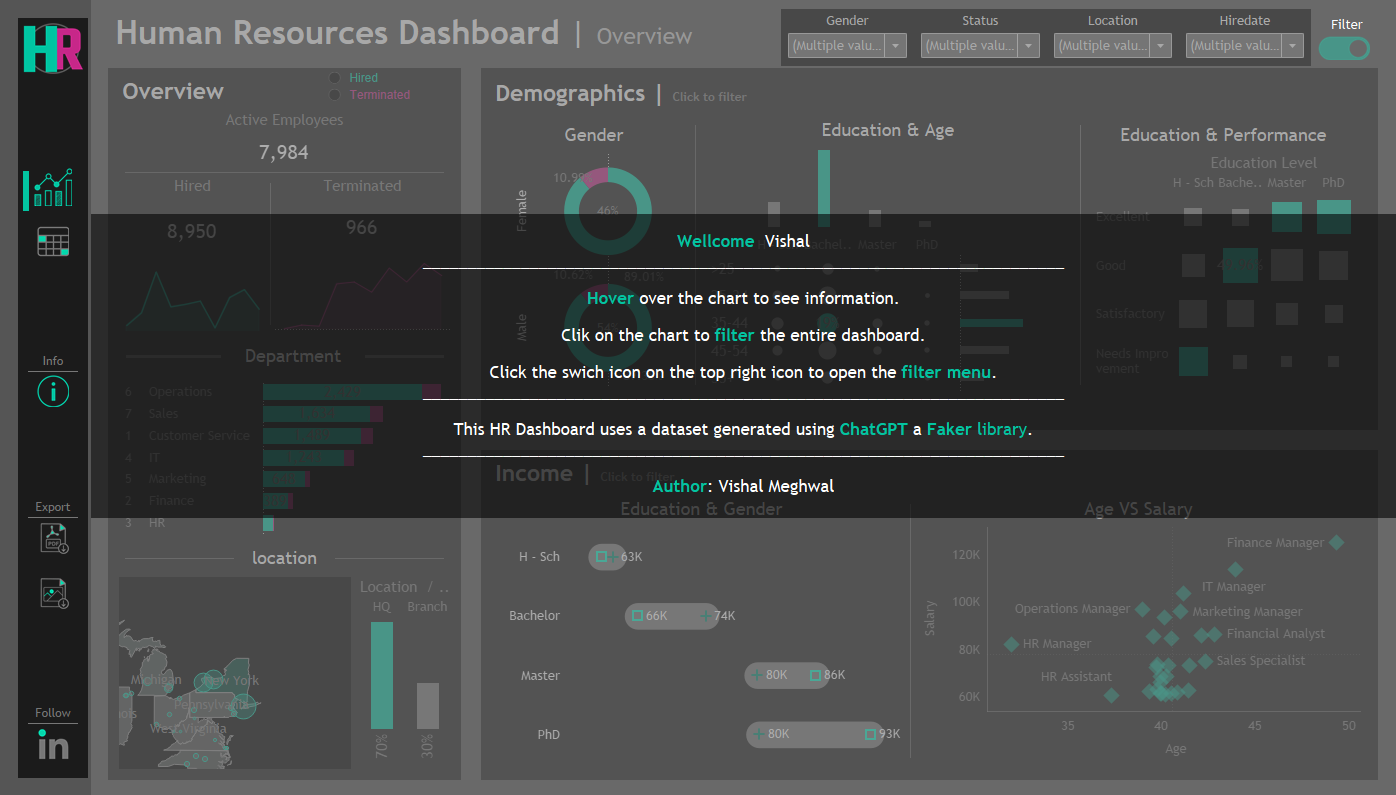

What the dashboard file says about the page in this screenshot:
{"tool":"tableau","page":{"name":"HR | Dash Board ","canvas":[1400,800],"ordinal":0},"visuals":[{"type":"blank","box":[93,0,1305,216]},{"type":"text","box":[110,0,683,70]},{"type":"blank","box":[793,0,587,70]},{"type":"filter","title":"Gander vs Education","param":"[federated.0bgmnje15hprr71agptte040bgvo].[none:Gender:nk]","box":[783,11,133,57]},{"type":"filter","title":"Gander vs Education","param":"[federated.0bgmnje15hprr71agptte040bgvo].[none:Calculation_571957185363922944:nk","box":[916,11,133,57]},{"type":"filter","title":"Gander vs Education","param":"[federated.0bgmnje15hprr71agptte040bgvo].[none:Calculation_314689055595626501:nk","box":[1049,11,132,57]},{"type":"filter","title":"Gander vs Education","param":"[federated.0bgmnje15hprr71agptte040bgvo].[yr:Hiredate:ok]","box":[1181,11,132,57]},{"type":"text","box":[1299,12,100,30]},{"type":"image","param":"Image/Logo.png","box":[20,20,70,60]},{"type":"dashboard-object","box":[1320,22,52,58]},{"type":"text","box":[325,74,93,32]},{"type":"text","box":[117,77,339,32]},{"type":"text","box":[490,77,883,35]},{"type":"blank","box":[20,80,70,90]},{"type":"text","box":[117,109,339,26]},{"type":"blank","box":[697,117,1,280]},{"type":"text","box":[703,117,374,29]},{"type":"blank","box":[1082,117,1,280]},{"type":"text","box":[500,122,192,29]},{"type":"text","box":[1088,122,275,29]},{"type":"worksheet","title":"BAN Active","mark":"Text","box":[117,135,339,39]},{"type":"worksheet","title":"Education levels","mark":"Bar","rows":["Calculation_314689055568195584"],"cols":["Education Level"],"box":[703,146,374,87]},{"type":"worksheet","title":"Gender","mark":"Pie","rows":["Gender"],"cols":["Calculation_314689055654825992","Calculation_314689055654825992"],"box":[500,151,192,241]},{"type":"worksheet","title":"Education vs Perfomance ","mark":"Square","rows":["Performance Rating"],"cols":["Education Level"],"box":[1088,151,275,241]},{"type":"dashboard-object","box":[20,170,70,38]},{"type":"blank","box":[25,173,6,40]},{"type":"blank","box":[117,174,339,1]},{"type":"text","box":[117,175,155,26]},{"type":"blank","box":[272,175,1,162]},{"type":"text","box":[273,175,183,26]},{"type":"worksheet","title":"BAN Hired","mark":"Text","box":[117,201,155,65]},{"type":"worksheet","title":"BAN Terminated","mark":"Text","box":[273,201,183,57]},{"type":"blank","box":[20,208,70,15]},{"type":"text","box":[93,216,1305,304]},{"type":"dashboard-object","box":[20,223,70,40]},{"type":"worksheet","title":"Age vs Educations","mark":"Circle","rows":["Calculation_314689055659184138"],"cols":["Education Level"],"box":[703,233,255,164]},{"type":"worksheet","title":"Age Group","mark":"Bar","rows":["Calculation_314689055659184138"],"cols":["Calculation_314689055568195584"],"box":[958,233,71,164]},{"type":"worksheet","title":"Terminated By Year","mark":"Line","rows":["Calculation_314689055568519169","Calculation_314689055568519169"],"cols":["Termdate"],"box":[273,258,183,79]},{"type":"blank","box":[20,263,70,90]},{"type":"worksheet","title":"Hired By Year","mark":"Line","rows":["Calculation_314689055568195584","Calculation_314689055568195584"],"cols":["Hiredate"],"box":[117,266,155,71]},{"type":"blank","box":[128,342,95,32]},{"type":"text","box":[223,342,144,32]},{"type":"blank","box":[367,342,79,32]},{"type":"text","box":[20,353,70,20]},{"type":"blank","box":[20,373,70,1]},{"type":"dashboard-object","box":[20,374,70,35]},{"type":"worksheet","title":"Departments","mark":"Bar","rows":["Calculation_314689055594668036","Department"],"cols":["Calculation_314689055568195584"],"box":[117,379,339,161]},{"type":"blank","box":[20,409,70,90]},{"type":"text","box":[490,459,883,32]},{"type":"text","box":[495,496,417,29]},{"type":"blank","box":[912,496,1,274]},{"type":"text","box":[913,496,455,29]},{"type":"text","box":[20,499,70,20]},{"type":"blank","box":[20,519,70,1]},{"type":"dashboard-object","box":[20,520,70,40]},{"type":"blank","box":[93,520,1305,280]},{"type":"worksheet","title":"Gander vs Education","mark":"Square","rows":["Education Level"],"cols":["Salary","Salary"],"box":[495,525,417,245]},{"type":"worksheet","title":"Age vs Selery","mark":"Shape","rows":["Salary"],"cols":["Calculation_314689055658201097"],"box":[913,525,455,245]},{"type":"blank","box":[127,545,109,30]},{"type":"text","box":[236,545,101,30]},{"type":"blank","box":[337,545,109,30]},{"type":"blank","box":[20,560,70,15]},{"type":"dashboard-object","box":[20,575,70,40]},{"type":"worksheet","title":"Map States","mark":"Multipolygon","box":[117,575,240,200]},{"type":"worksheet","title":"Locations","mark":"Bar","rows":["Calculation_314689055568195584"],"cols":["Calculation_314689055595626501","Calculation1"],"box":[357,575,99,200]},{"type":"blank","box":[20,615,70,90]},{"type":"text","box":[20,705,70,20]},{"type":"blank","box":[20,725,70,1]},{"type":"image","param":"Image/contact-linkedin.png","box":[20,726,70,40]}]}

Visuals, with their boxes in screenshot pixels (x1, y1, x2, y2), scaled from the page's 1400x800 canvas onto the 1396x795 screenshot:
blank: 93:0:1394:215
text: 110:0:791:70
blank: 791:0:1376:70
"Gander vs Education" filter: 781:11:913:68
"Gander vs Education" filter: 913:11:1046:68
"Gander vs Education" filter: 1046:11:1178:68
"Gander vs Education" filter: 1178:11:1309:68
text: 1295:12:1395:42
image: 20:20:90:80
dashboard-object: 1316:22:1368:80
text: 324:74:417:105
text: 117:77:455:108
text: 489:77:1369:111
blank: 20:80:90:169
text: 117:108:455:134
blank: 695:116:696:395
text: 701:116:1074:145
blank: 1079:116:1080:395
text: 499:121:690:150
text: 1085:121:1359:150
"BAN Active" worksheet (Text marks): 117:134:455:173
"Education levels" worksheet (Bar marks): 701:145:1074:232
"Gender" worksheet (Pie marks): 499:150:690:390
"Education vs Perfomance " worksheet (Square marks): 1085:150:1359:390
dashboard-object: 20:169:90:207
blank: 25:172:31:212
blank: 117:173:455:174
text: 117:174:271:200
blank: 271:174:272:335
text: 272:174:455:200
"BAN Hired" worksheet (Text marks): 117:200:271:264
"BAN Terminated" worksheet (Text marks): 272:200:455:256
blank: 20:207:90:222
text: 93:215:1394:517
dashboard-object: 20:222:90:261
"Age vs Educations" worksheet (Circle marks): 701:232:955:395
"Age Group" worksheet (Bar marks): 955:232:1026:395
"Terminated By Year" worksheet (Line marks): 272:256:455:335
blank: 20:261:90:351
"Hired By Year" worksheet (Line marks): 117:264:271:335
blank: 128:340:222:372
text: 222:340:366:372
blank: 366:340:445:372
text: 20:351:90:371
blank: 20:371:90:372
dashboard-object: 20:372:90:406
"Departments" worksheet (Bar marks): 117:377:455:537
blank: 20:406:90:496
text: 489:456:1369:488
text: 494:493:909:522
blank: 909:493:910:765
text: 910:493:1364:522
text: 20:496:90:516
blank: 20:516:90:517
dashboard-object: 20:517:90:556
blank: 93:517:1394:794
"Gander vs Education" worksheet (Square marks): 494:522:909:765
"Age vs Selery" worksheet (Shape marks): 910:522:1364:765
blank: 127:542:235:571
text: 235:542:336:571
blank: 336:542:445:571
blank: 20:556:90:571
dashboard-object: 20:571:90:611
"Map States" worksheet (Multipolygon marks): 117:571:356:770
"Locations" worksheet (Bar marks): 356:571:455:770
blank: 20:611:90:701
text: 20:701:90:720
blank: 20:720:90:721
image: 20:721:90:761
